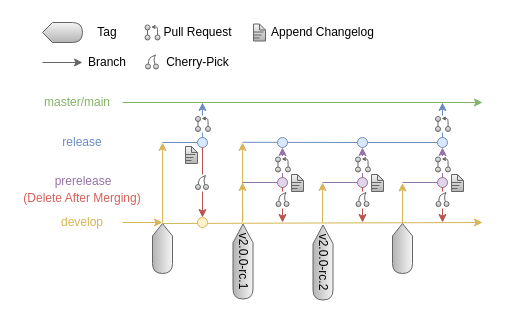
This 508x317 diagram has some shape labels left out. Here are the shapes that lost their labels. From the top down, the box of each, then its label:
(152, 222, 172, 274): v1.0.0
(392, 222, 412, 274): v2.0.0
